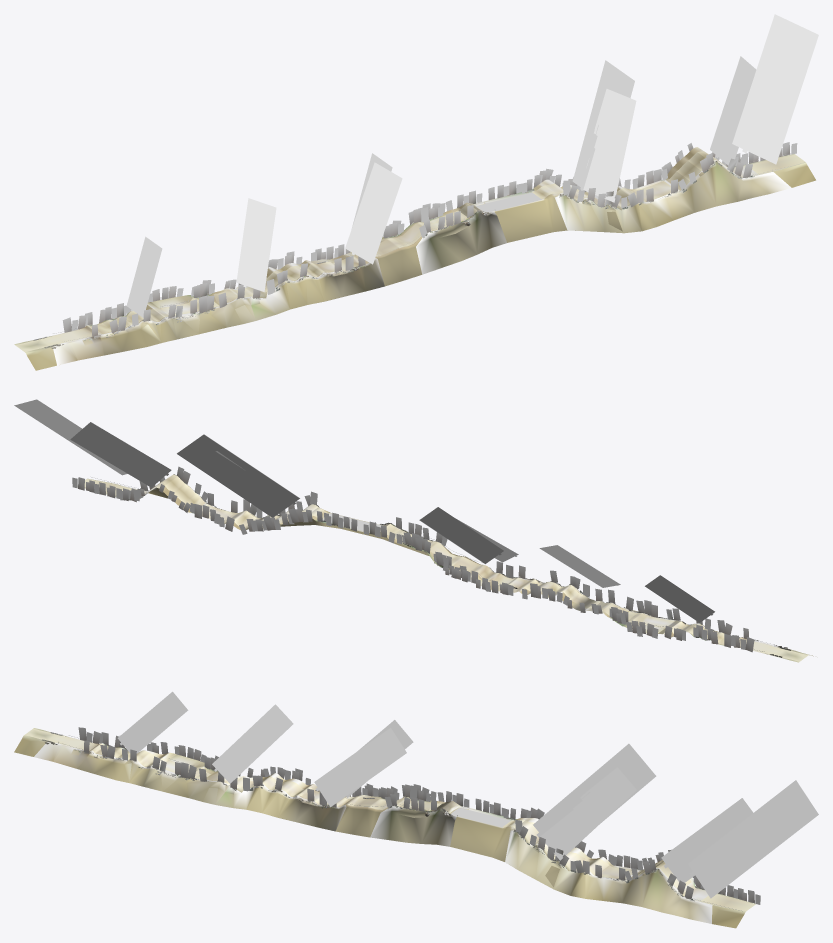
The model's file is Beach_05.fbx.
The picture shows the model from 3 angles, top to bottom: view 1: azimuth 30°, elevation 25°; view 2: azimuth 150°, elevation 25°; view 3: azimuth 330°, elevation 25°; orthographic projection. The views are drawn at different scales.
Visible parts, largest first — view 1: Light_01, Mountain_01, Tree_01, Road_01, Ground_01; view 2: Light_01, Tree_01, Ground_01, Road_01; view 3: Light_01, Mountain_01, Tree_01, Road_01, Ground_01, Sea_01.
Part boxes in pixels (bbox=[...]): Light_01: bbox=[126, 14, 818, 317]; Mountain_01: bbox=[52, 160, 791, 365]; Tree_01: bbox=[51, 142, 797, 348]; Road_01: bbox=[14, 147, 815, 370]; Ground_01: bbox=[15, 151, 804, 351]; Light_01: bbox=[14, 399, 714, 622]; Tree_01: bbox=[72, 466, 787, 652]; Ground_01: bbox=[84, 474, 808, 661]; Road_01: bbox=[77, 478, 813, 662]; Light_01: bbox=[117, 691, 818, 898]; Mountain_01: bbox=[34, 742, 712, 923]; Tree_01: bbox=[45, 727, 760, 904]; Road_01: bbox=[14, 728, 755, 928]; Ground_01: bbox=[24, 728, 754, 911]; Sea_01: bbox=[451, 808, 510, 827].
Bounding box in the file's own units: 58415 × 8889 × 6818.
